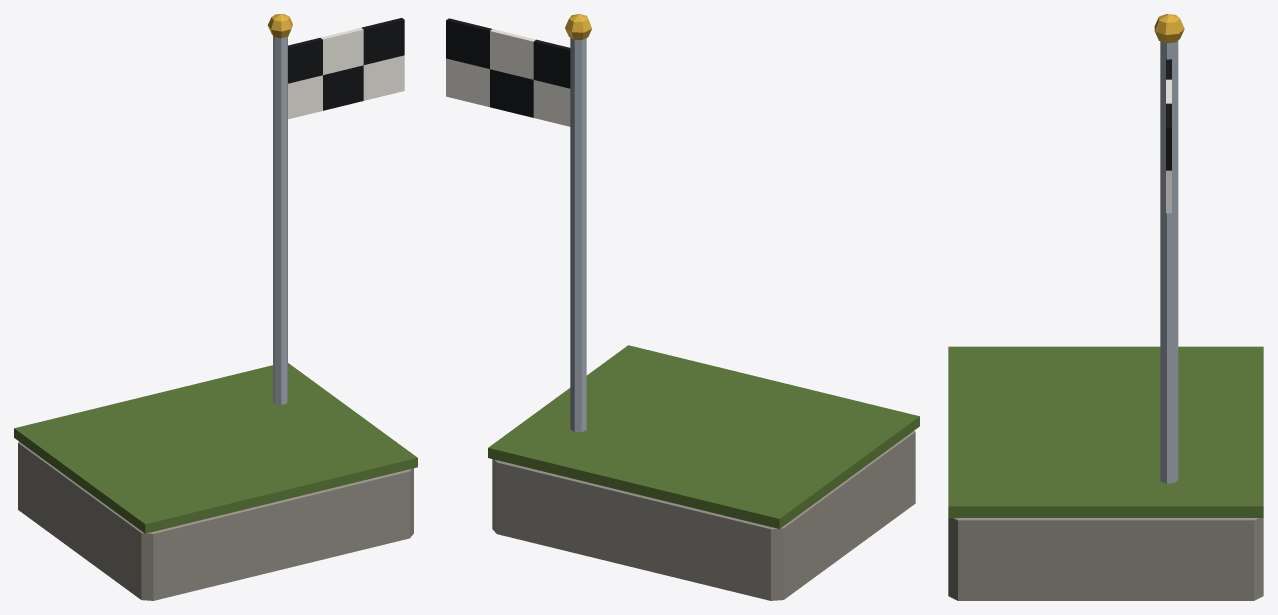
Rendered from finish-flag-lod1.glb.
3 renders of one model, left to right at view 1: azimuth 30°, elevation 25°; view 2: azimuth 150°, elevation 25°; view 3: azimuth 270°, elevation 25°, orthographic. The views are drawn at different scales.
Parts seen in each view (by area): view 1: finish-flag; view 2: finish-flag; view 3: finish-flag.
Boxes of the visible parts, <box> form: finish-flag: <box>14,14,417,600</box>; finish-flag: <box>446,14,919,600</box>; finish-flag: <box>948,14,1263,600</box>.
Size of the model in its own units: 1.54 by 1.97 by 1.
